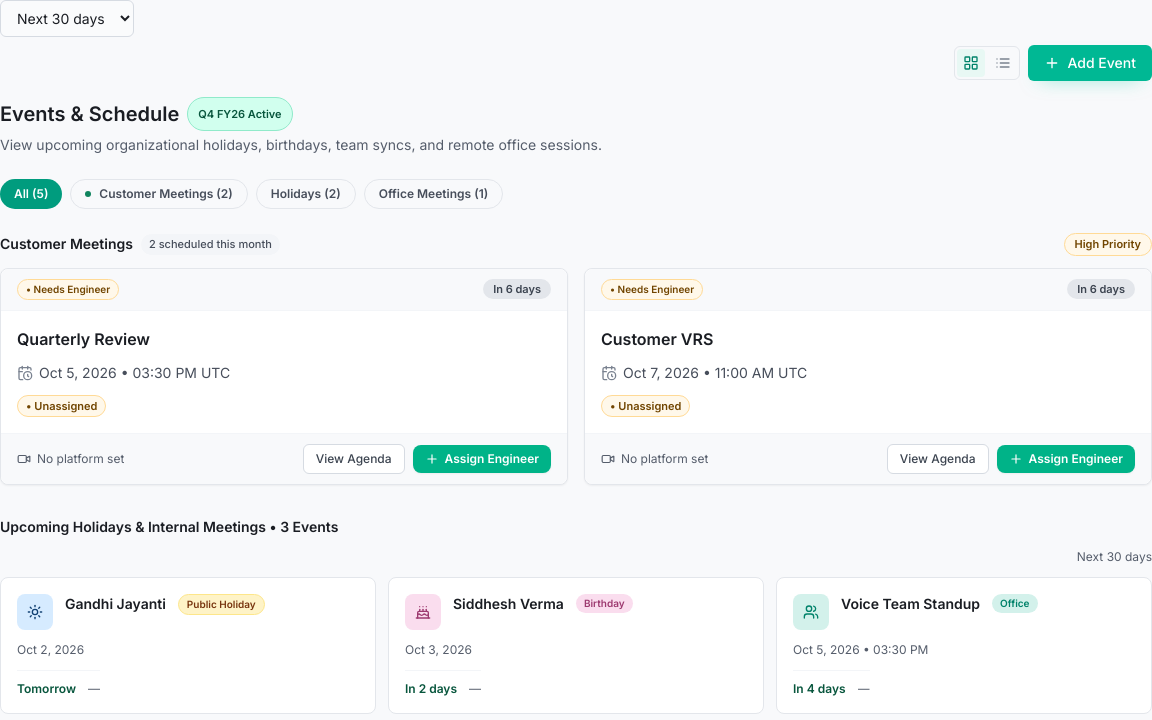
Scenario: EventsPage add event modal › shows only Holiday Purpose and Date once Holiday is selected
The width and height of the screenshot is (1152, 720).
What coordinates should you click on to do the following:
click the button "Add Event"
I would click on:
 (1090, 63)
Its box is [1028,45,1151,81].
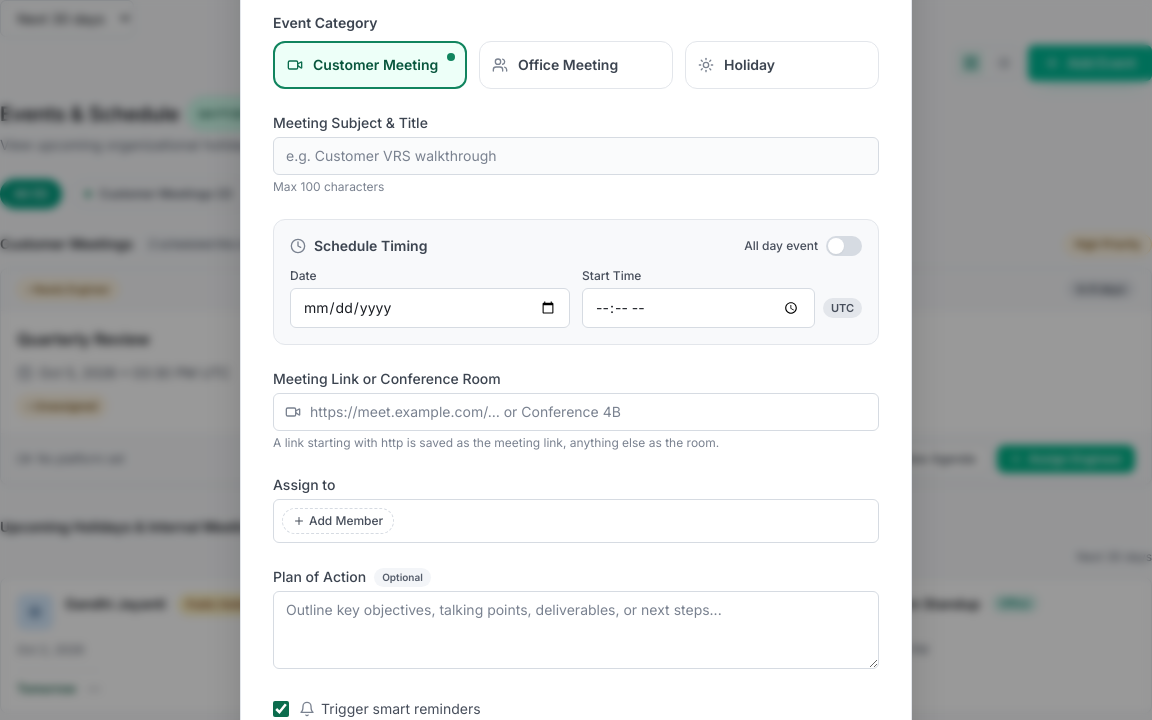
What coordinates should you click on to do the following:
click the button "Holiday"
I would click on:
 (782, 65)
Its box is [685,41,879,89].
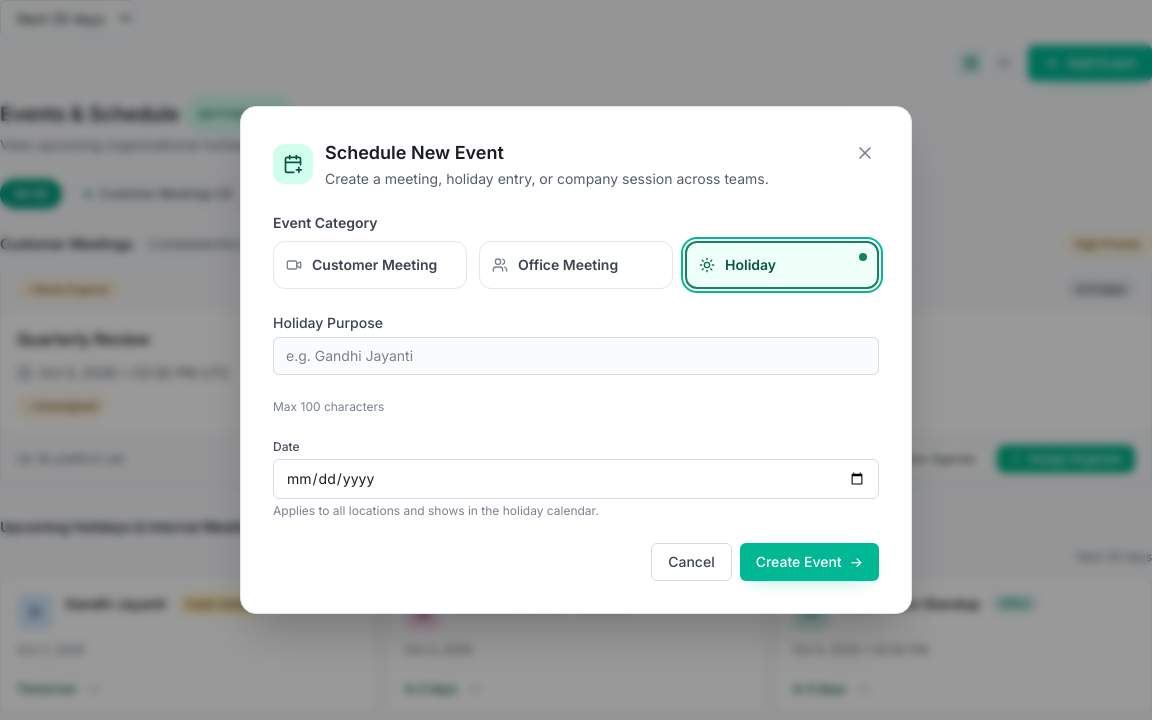
Expected: the field labelled "Holiday Purpose" is shown, [273,337,879,375]
Expected: the date field labelled "Date" is shown, [273,459,879,499]
Expected: the label labelled "Meeting Subject & Title" is gone
